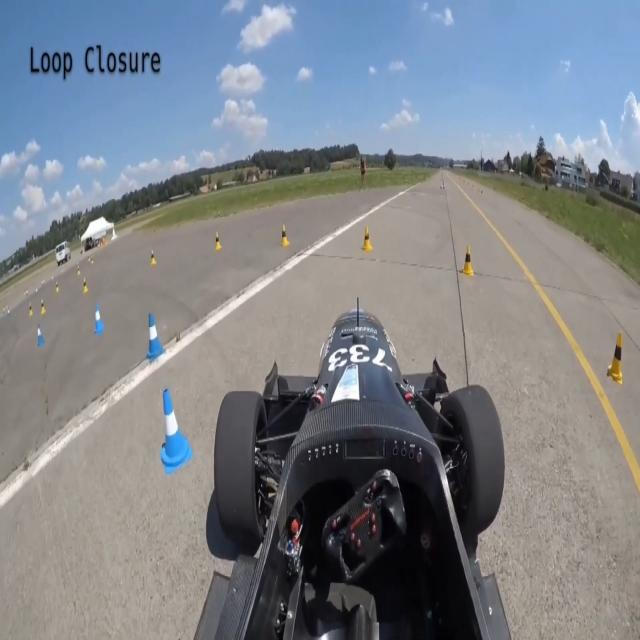blue_cone: (157, 389, 194, 475), (144, 308, 169, 367), (93, 300, 106, 335), (36, 321, 44, 348)
yellow_cone: (606, 324, 624, 384), (458, 244, 477, 280), (361, 225, 375, 254), (278, 223, 291, 249), (212, 229, 222, 250), (82, 275, 89, 294), (150, 248, 157, 266), (40, 299, 47, 315), (28, 302, 35, 318), (55, 282, 60, 294), (77, 265, 81, 277)
